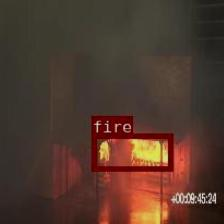fire: (91, 133, 172, 170)
